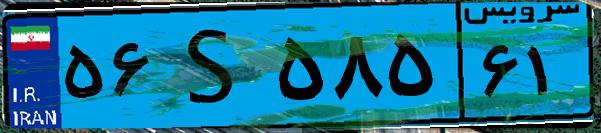1: (525, 38, 570, 115)
5: (270, 28, 330, 110), (385, 28, 445, 110), (57, 26, 110, 100)
6: (475, 38, 525, 113), (110, 28, 158, 98)
8: (330, 28, 385, 110)
S: (158, 12, 270, 120)
